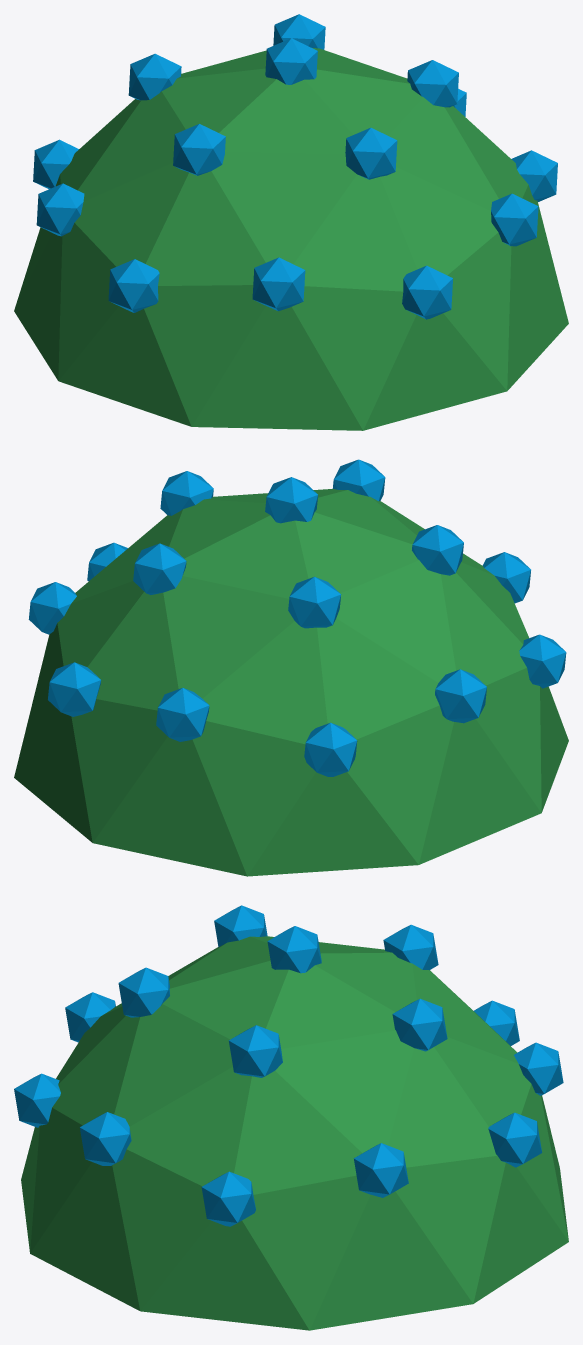
File: BushFruitsBlue.fbx
3 renders of one model, top to bottom at view 1: azimuth 30°, elevation 25°; view 2: azimuth 150°, elevation 25°; view 3: azimuth 270°, elevation 25°, orthographic. The views are drawn at different scales.
Visible parts, largest first — view 1: BushFruitsBlue; view 2: BushFruitsBlue; view 3: BushFruitsBlue.
Part boxes in pixels (box(x1,y1,x2,y2)): BushFruitsBlue: box(14, 14, 568, 430); BushFruitsBlue: box(14, 459, 568, 876); BushFruitsBlue: box(14, 905, 568, 1330).
Size of the model in its own units: 605 by 336 by 592.
